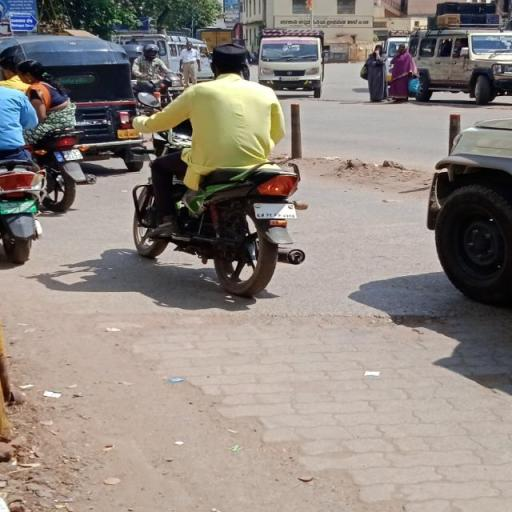bike: (121, 42, 311, 300)
withouthelmet: (212, 44, 250, 76)
